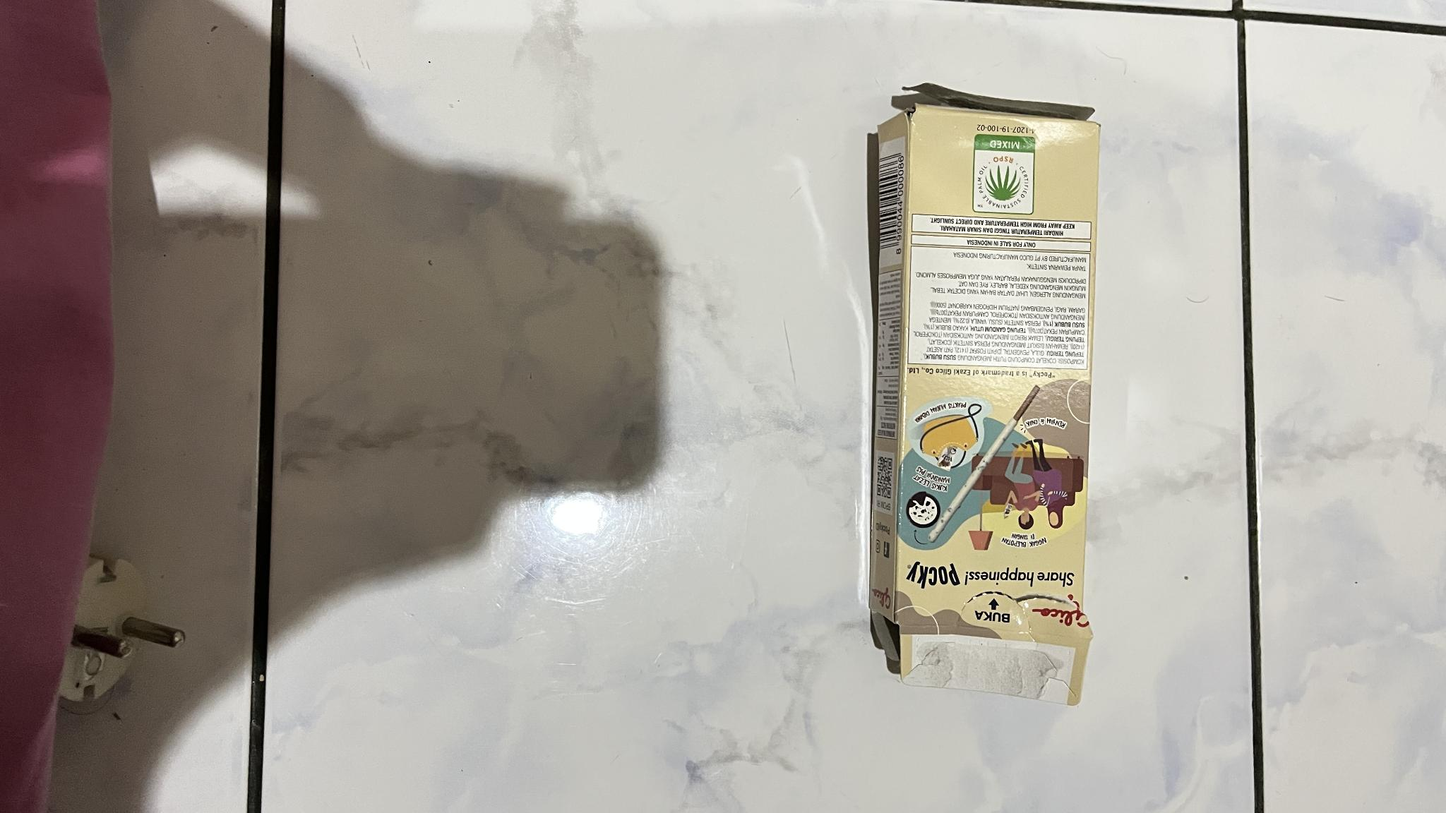Kertas: (898, 106, 1092, 642)
